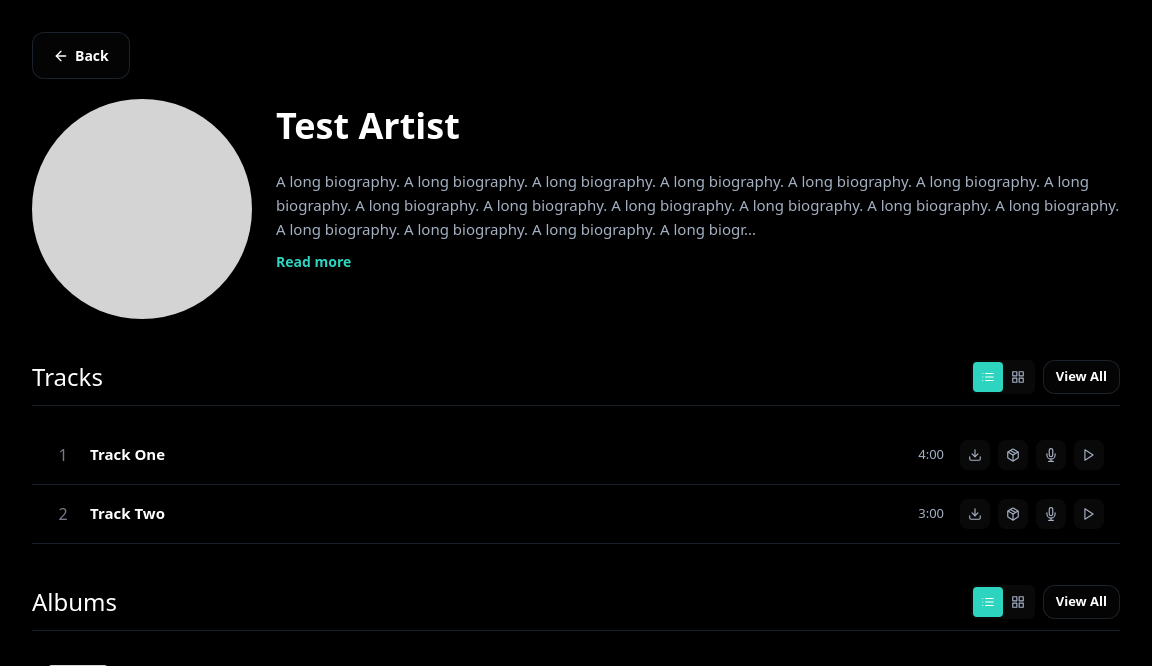
Test: ArtistDetailView › shows read more / read less for long biography
Click the text "Read more" at (314, 262), box [276, 252, 351, 271]
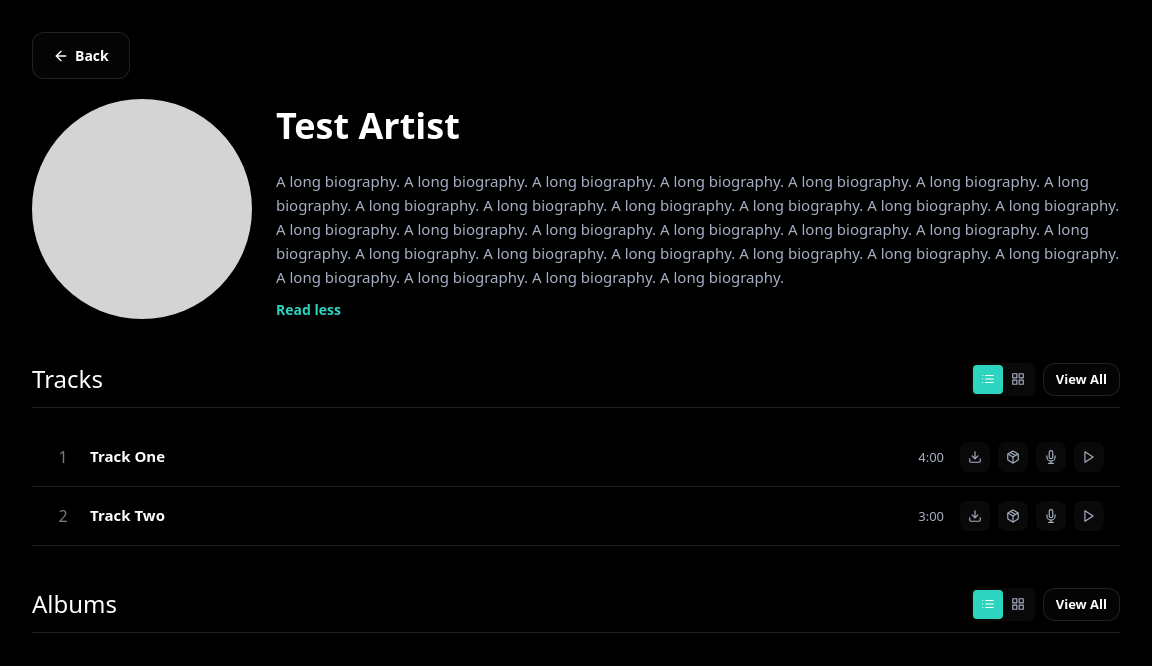
Now the text "Read less" is shown
Click the text "Read less" at (308, 310), box [276, 300, 341, 319]
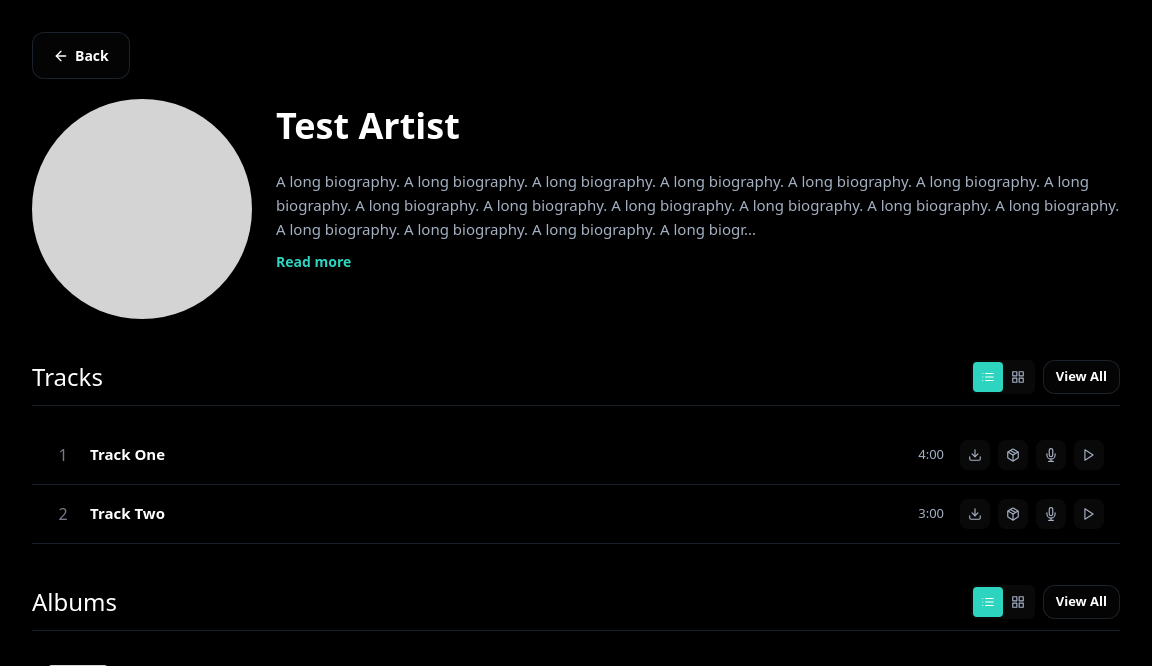
Now the text "Read more" is shown, box [276, 252, 351, 271]
